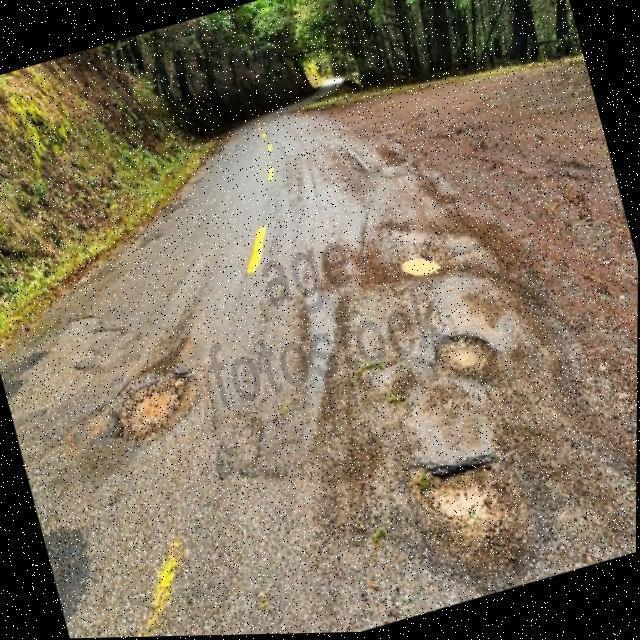Pothole: (405, 446, 538, 592), (108, 363, 205, 448), (429, 330, 517, 397), (394, 245, 447, 279)
